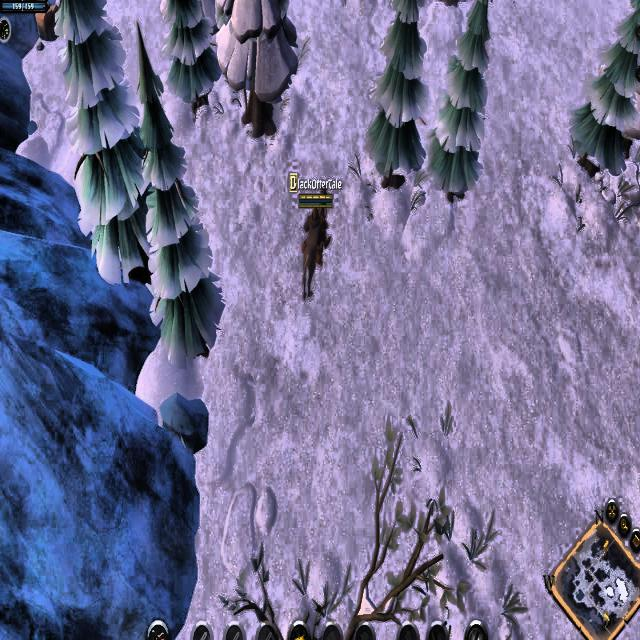limestone: (34, 4, 62, 45)
